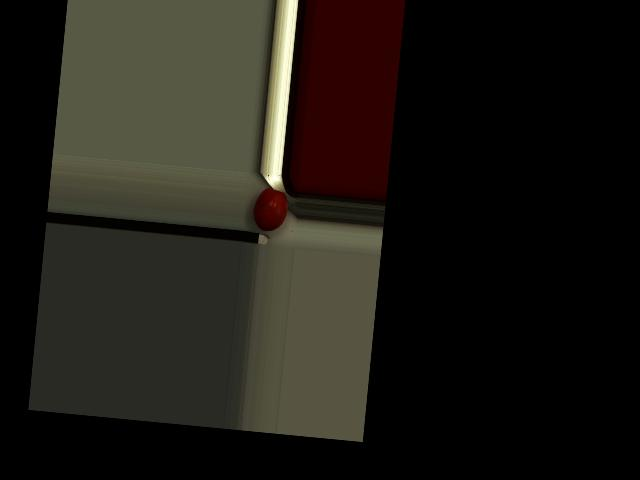tomato: (251, 186, 289, 232)
